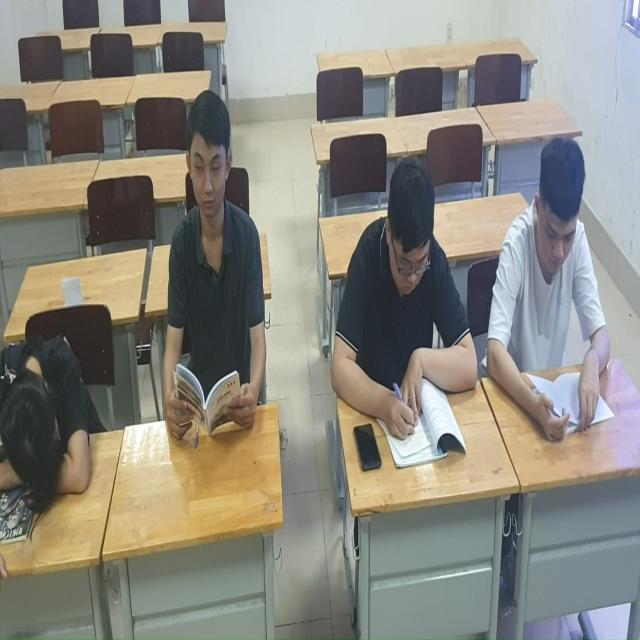read: (155, 86, 283, 470), (345, 140, 491, 467), (498, 139, 616, 446)
sleep: (1, 295, 101, 524)
